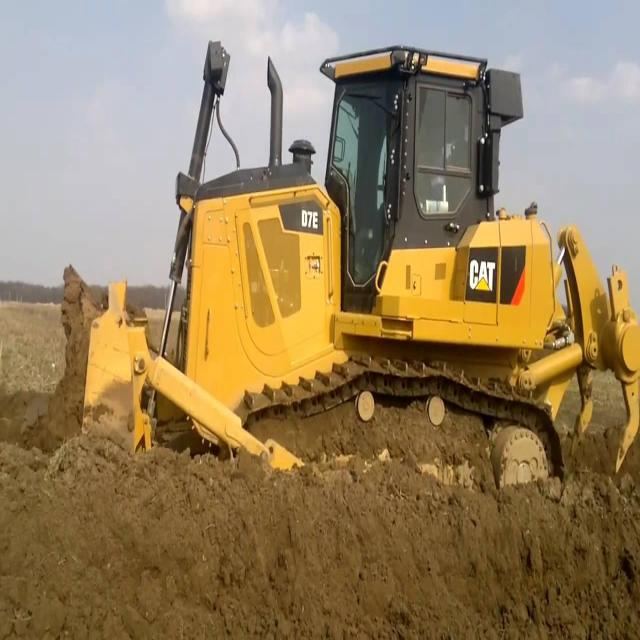Bulldozer: (73, 12, 640, 576)
